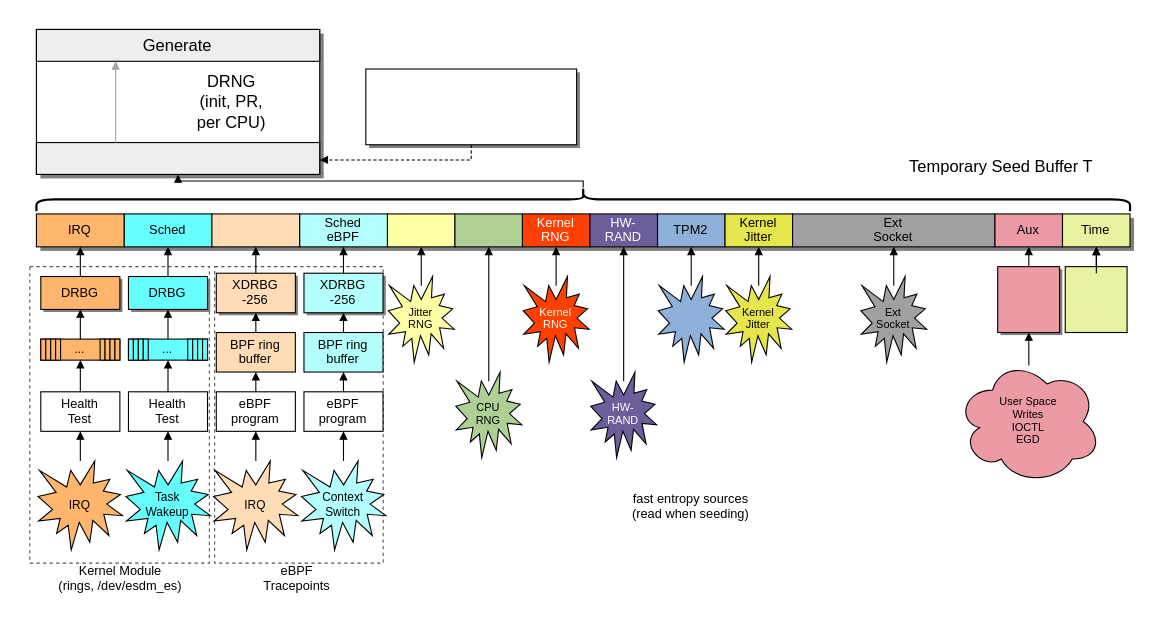
Some shapes in this 1164 by 624 pixel diagram are drawn without their labels. Each missing label, with the box of its shape:
(Re)Seeding: (35, 141, 319, 174)
Additional Input U (sources with an entropy rate of 0): (364, 68, 576, 144)
CLOCK_ MONO- TONIC: (1064, 265, 1127, 332)
CPU: (453, 212, 522, 247)
IRQ eBPF: (210, 212, 299, 247)
Jitter: (386, 212, 455, 247)
TPM 2.0: (657, 275, 724, 362)
XDRBG -256 Aux Pool: (996, 265, 1059, 332)
